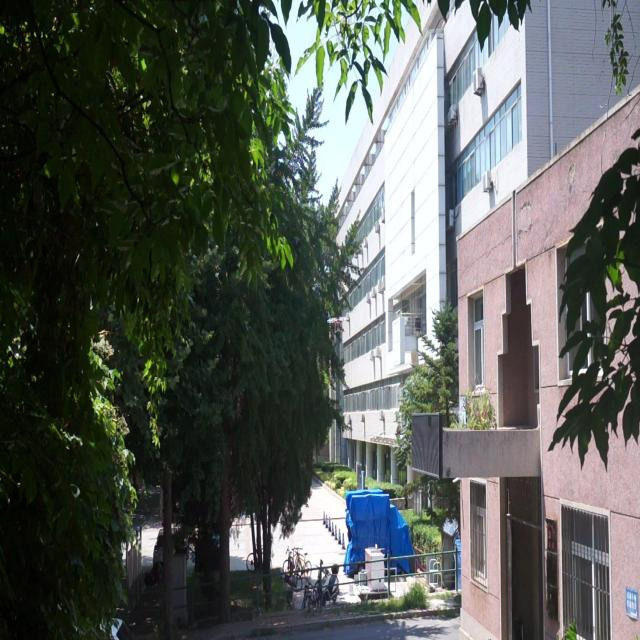UAV: (327, 316, 349, 334)
